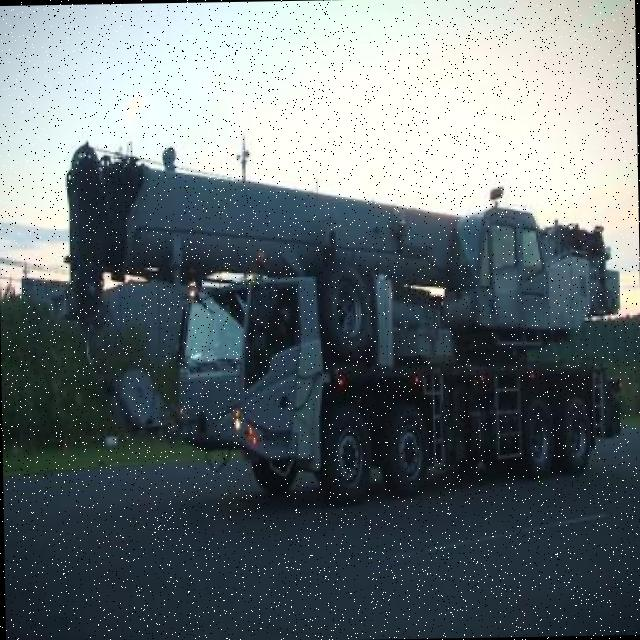Mobile Crane: (65, 147, 630, 512)
